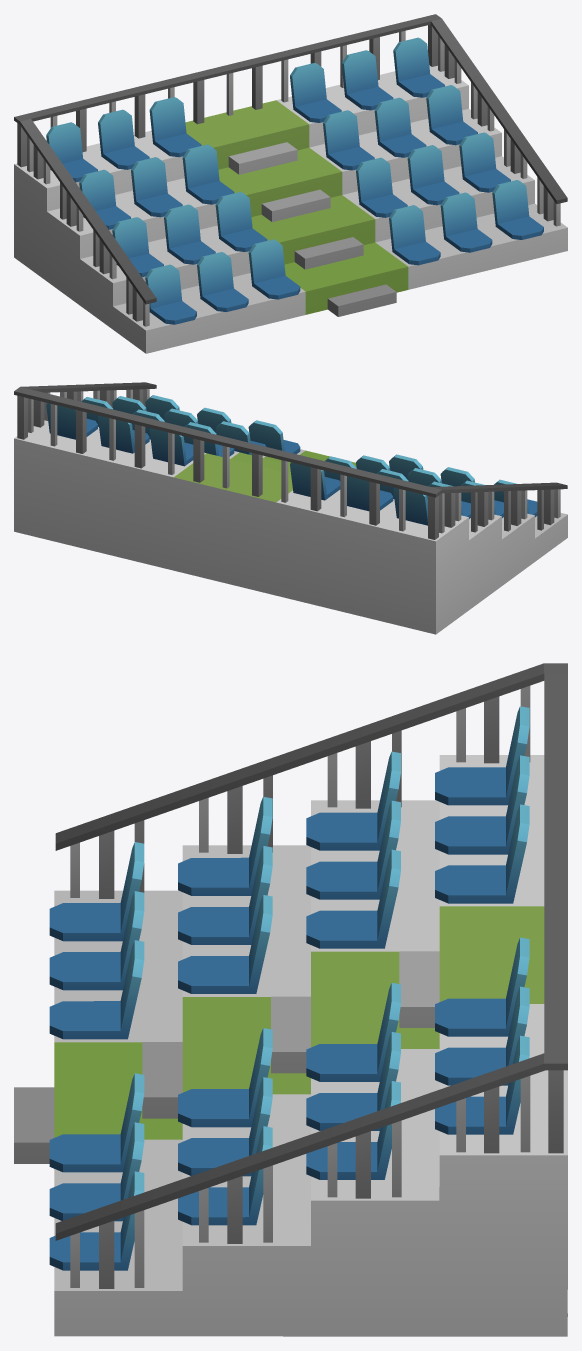
The model's file is soccer grandstand.fbx.
The picture shows the model from 3 angles, top to bottom: view 1: azimuth 30°, elevation 25°; view 2: azimuth 150°, elevation 25°; view 3: azimuth 270°, elevation 25°; orthographic projection. The views are drawn at different scales.
Visible parts, largest first — view 1: soccer grandstand; view 2: soccer grandstand; view 3: soccer grandstand.
Part boxes in pixels (x1,y1,x2,y2): soccer grandstand: (14, 14, 567, 353); soccer grandstand: (14, 382, 567, 634); soccer grandstand: (14, 663, 567, 1336).
Size of the model in its own units: 838 by 267 by 490.
